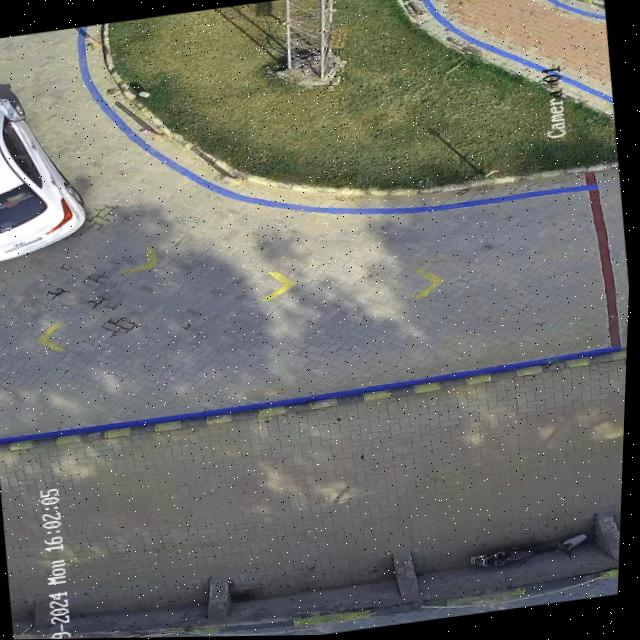car: (0, 96, 87, 260)
